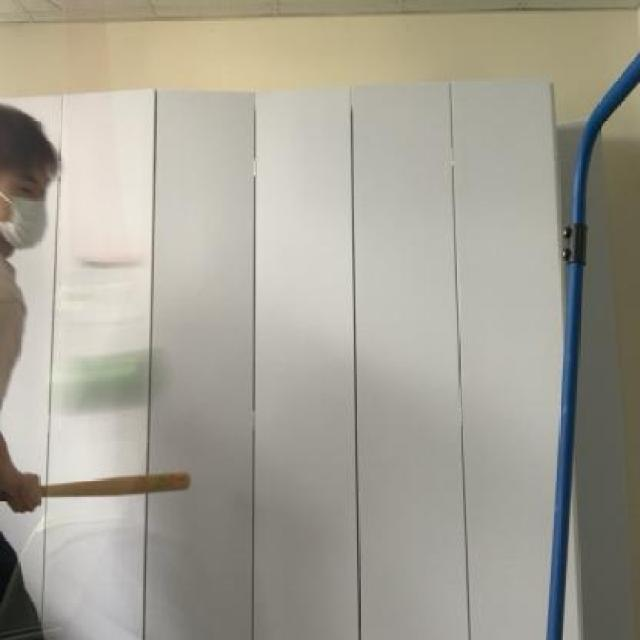baseball: (41, 340, 176, 420)
